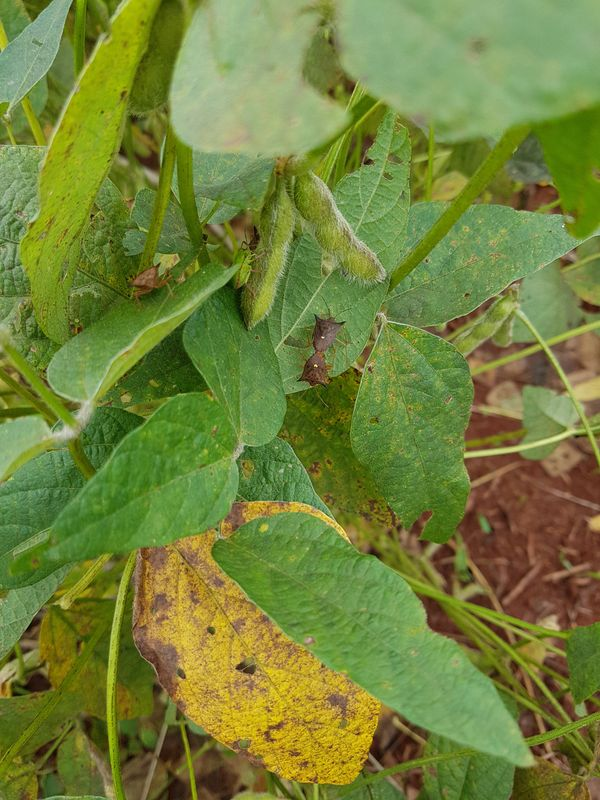Euschistus_heros_adulto: (120, 257, 185, 316), (291, 352, 340, 412), (305, 295, 354, 352)
